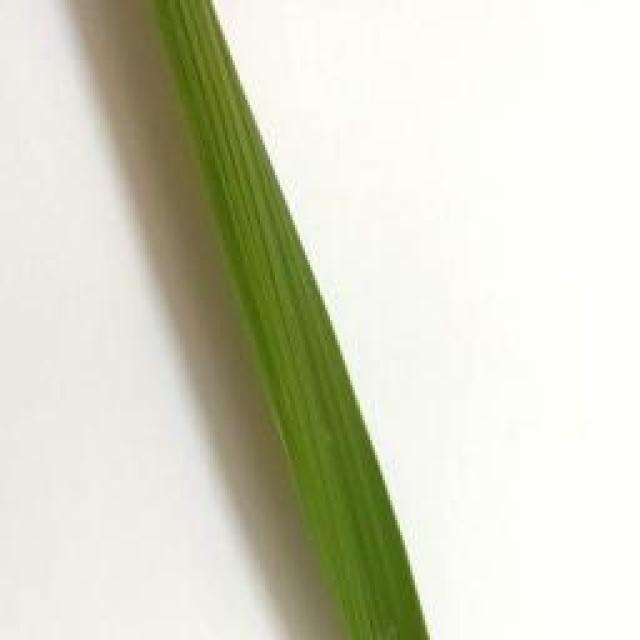Healthy-Plant: (148, 0, 427, 640)
